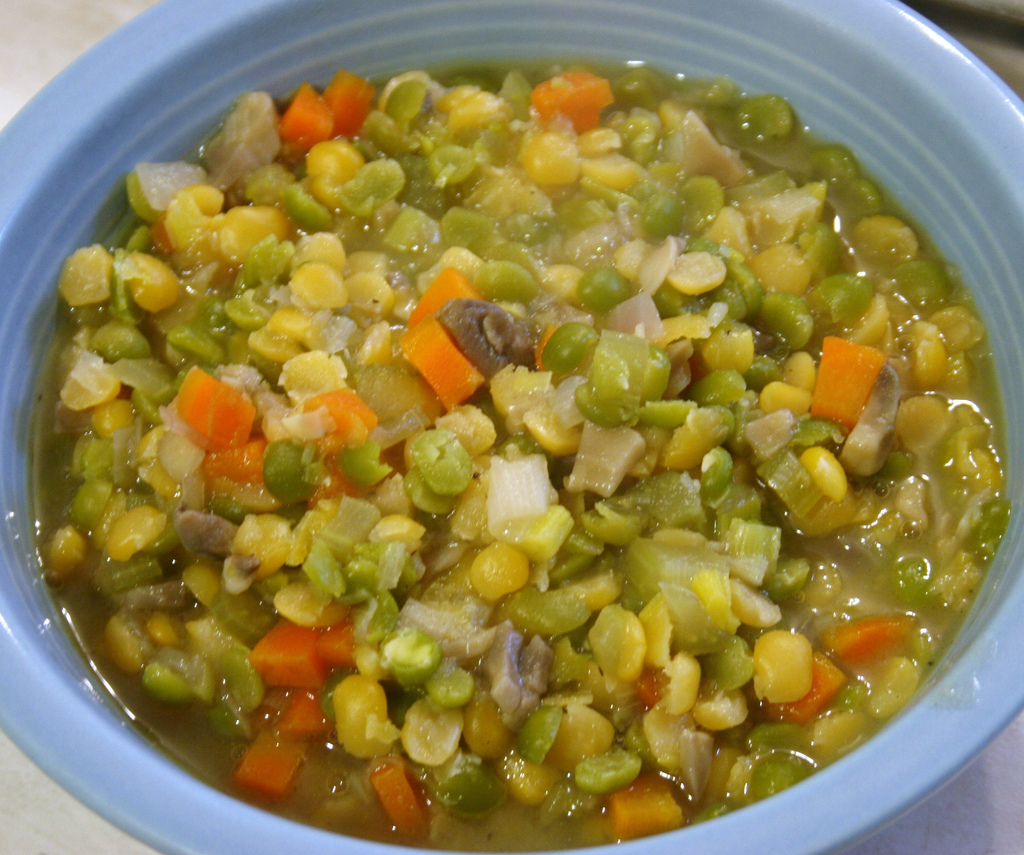boiled peas: (183, 247, 896, 704)
